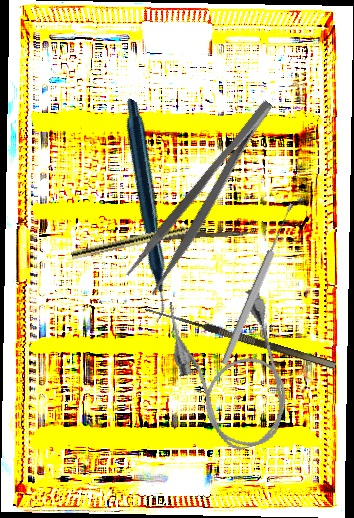Cannula: (159, 277, 302, 461)
Dressing Forceps: (123, 96, 292, 297)
Handpiece: (42, 98, 245, 322), (70, 219, 211, 262)
Hook Surgical: (141, 304, 337, 380)
Pusher: (129, 226, 256, 244)
Surgical Spoon: (219, 201, 297, 367)
